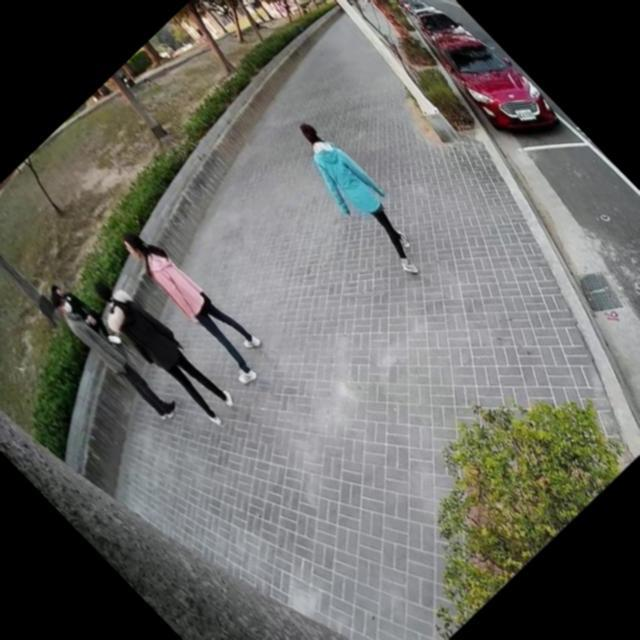person: (104, 212, 283, 394), (273, 107, 447, 286), (76, 263, 246, 437), (36, 278, 184, 431), (44, 272, 124, 354), (352, 0, 378, 11)
